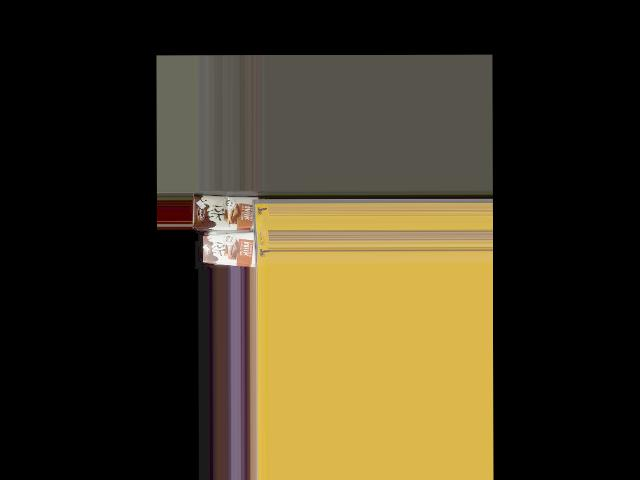chocolate: (201, 232, 262, 270)
